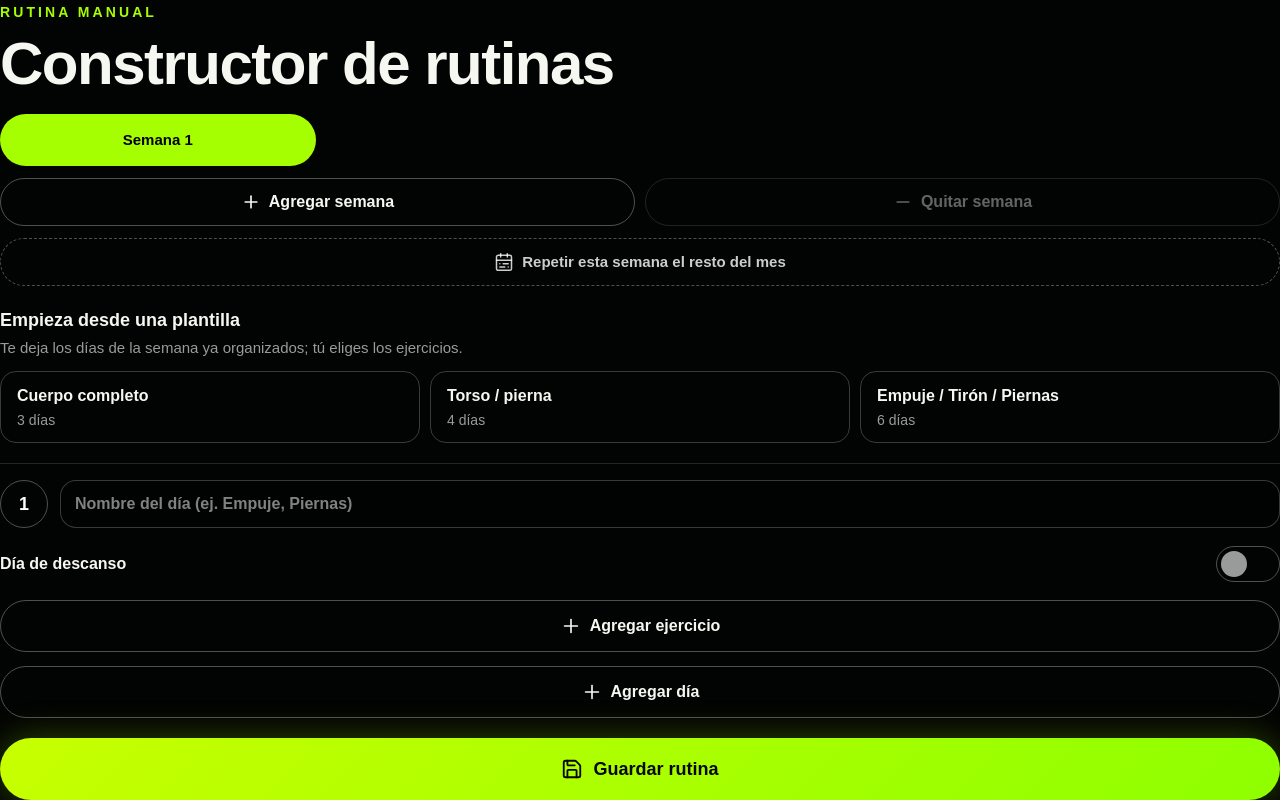
Test: RoutineBuilderWizard › shows validation errors and jumps to the offending week on save
(page scrolled)
// Week 1's only day has no name and no exercises: saving should block and explain why.
Click the button "Guardar rutina".
click(640, 769)  # box [0, 738, 1279, 799]
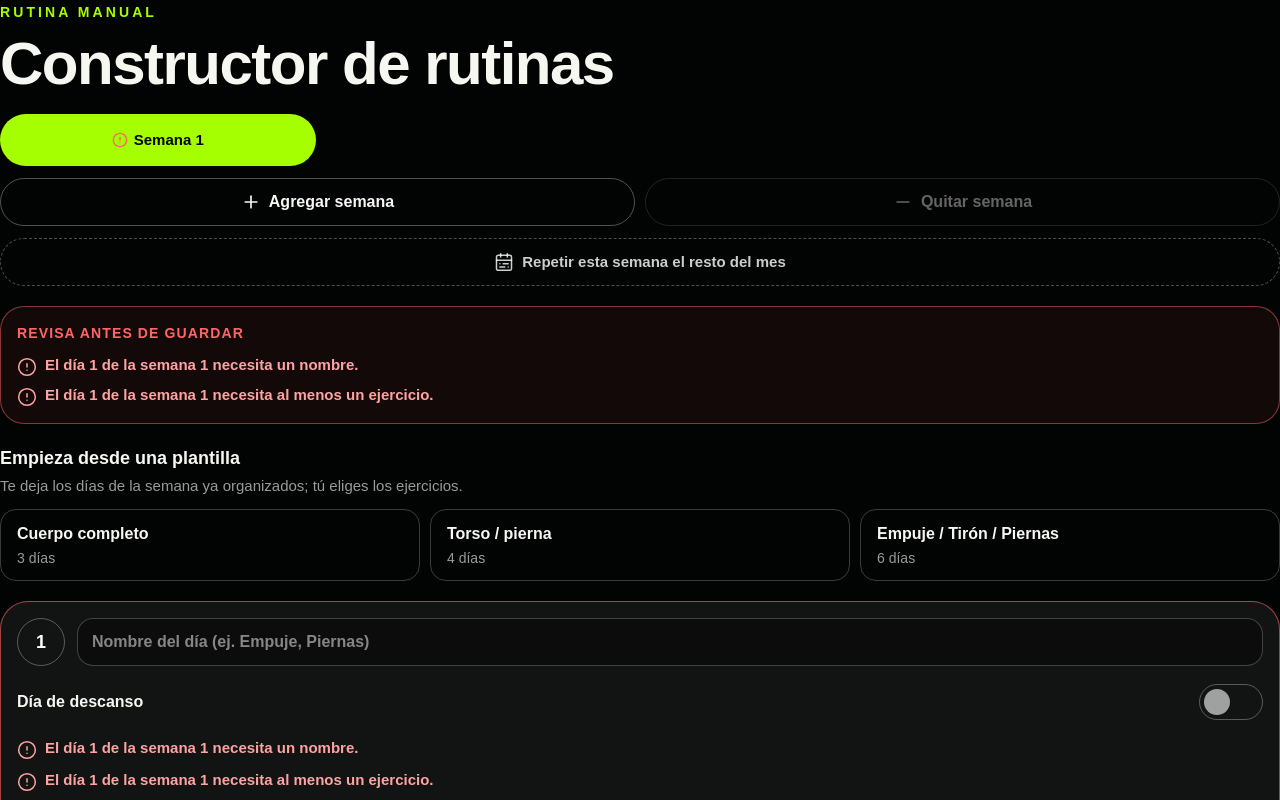
Expected: the text "Revisa antes de guardar" is shown, [17, 325, 244, 341]
